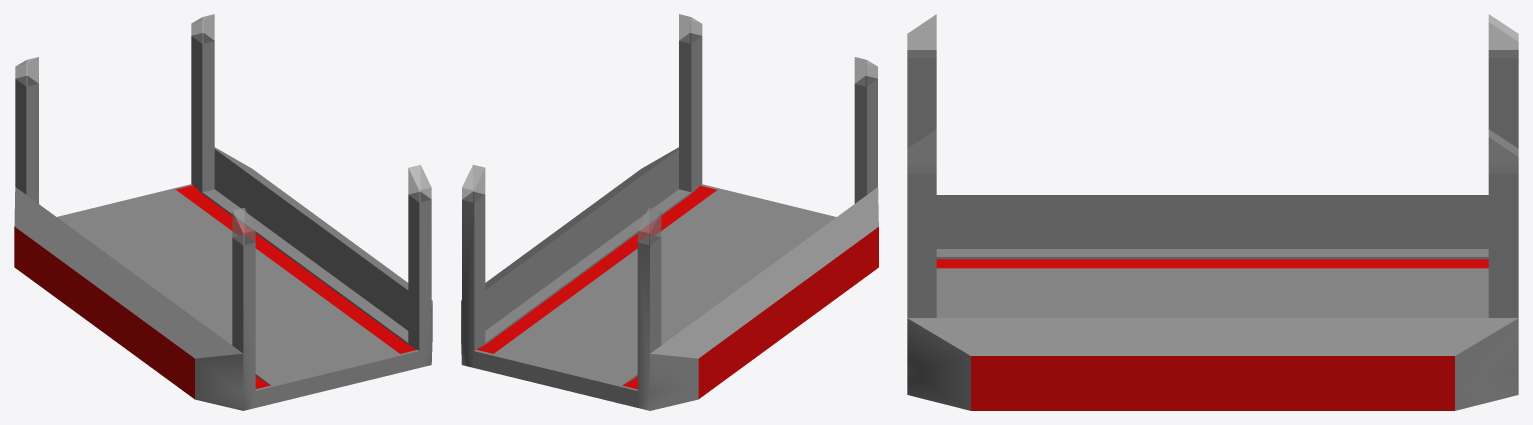
Rendered from Bridge.fbx.
3 views of the same model, side by side, from view 1: azimuth 30°, elevation 25°; view 2: azimuth 150°, elevation 25°; view 3: azimuth 270°, elevation 25° (orthographic). The views are drawn at different scales.
Parts seen in each view (by area): view 1: polySurface6; view 2: polySurface6; view 3: polySurface6.
Part boxes in pixels (x1,y1,x2,y2): polySurface6: (14, 14, 432, 410); polySurface6: (461, 14, 878, 410); polySurface6: (907, 14, 1518, 410).
Bounding box in the file's own units: 14.68 × 11.36 × 24.42.
